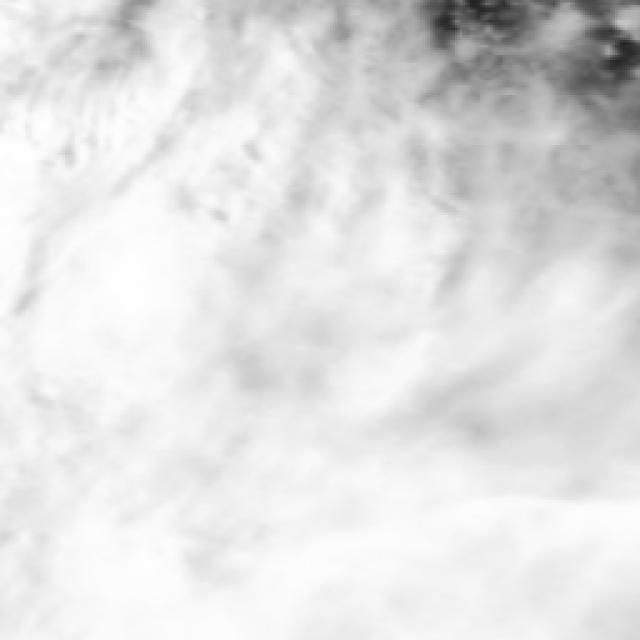CB: (228, 474, 592, 640), (13, 171, 260, 388)
